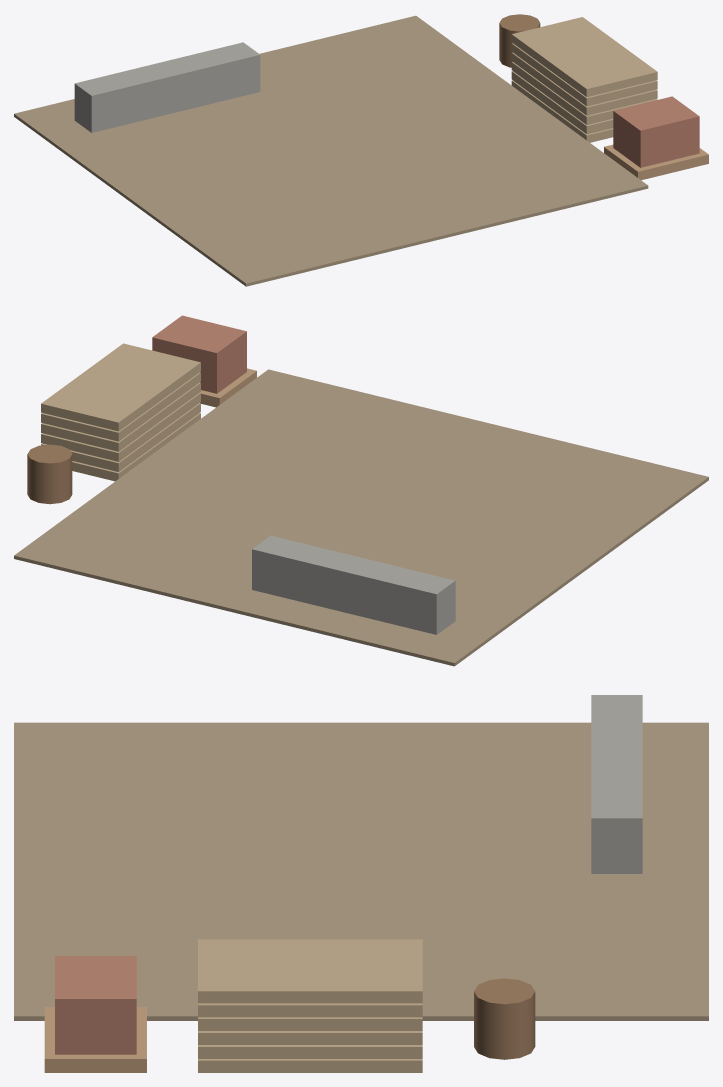
The model's file is rabbit_hutch_site_1.glb.
The picture shows the model from 3 angles, top to bottom: view 1: azimuth 30°, elevation 25°; view 2: azimuth 150°, elevation 25°; view 3: azimuth 270°, elevation 25°; orthographic projection. The views are drawn at different scales.
Visible parts, largest first — view 1: body; view 2: body; view 3: body.
Part boxes in pixels (x1=…): body: x1=14, y1=14, x2=708, y2=286; body: x1=14, y1=315, x2=708, y2=666; body: x1=14, y1=695, x2=708, y2=1072.
Size of the model in its own units: 1.6 by 0.176 by 1.36.
